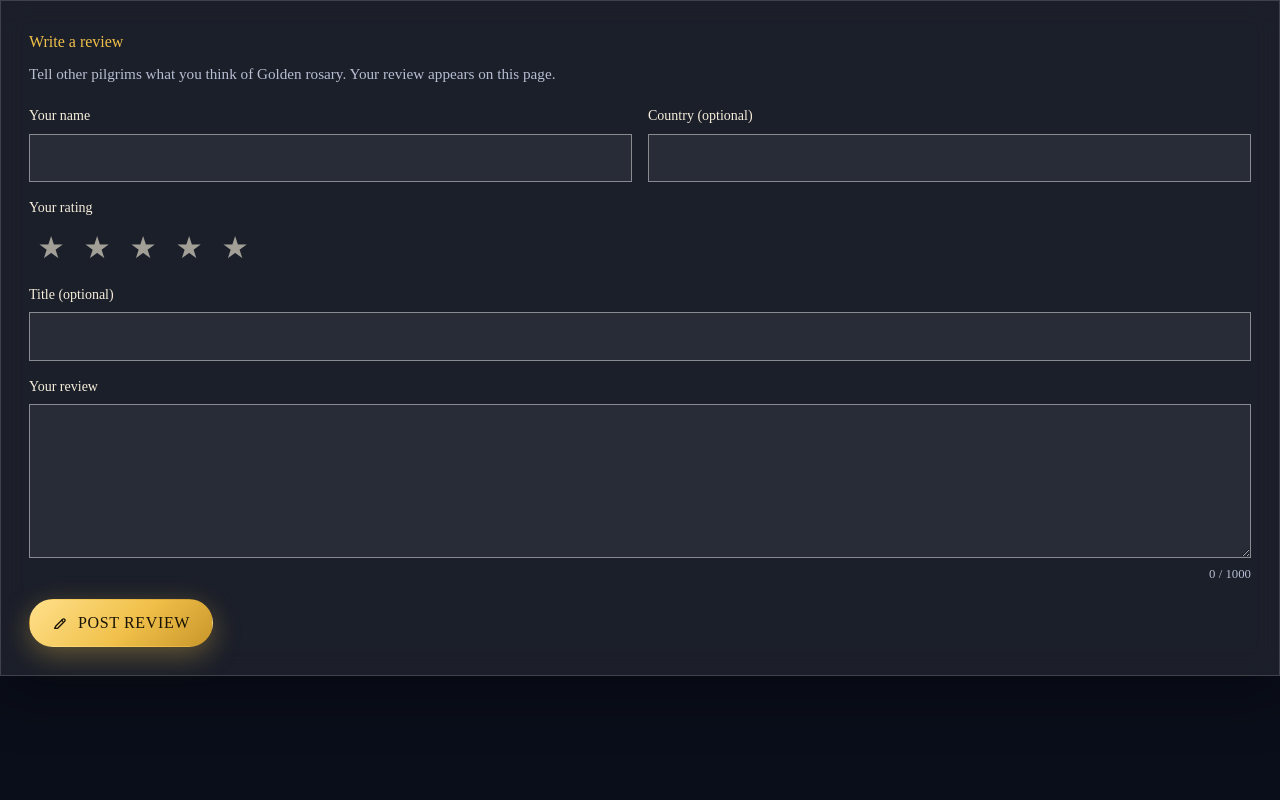
it: ProductReviewForm › explains an answer of 422 and keeps what was written
The image size is (1280, 800).
In the field labelled "Your name": (330, 158) [29,134,632,182], type " Maria "
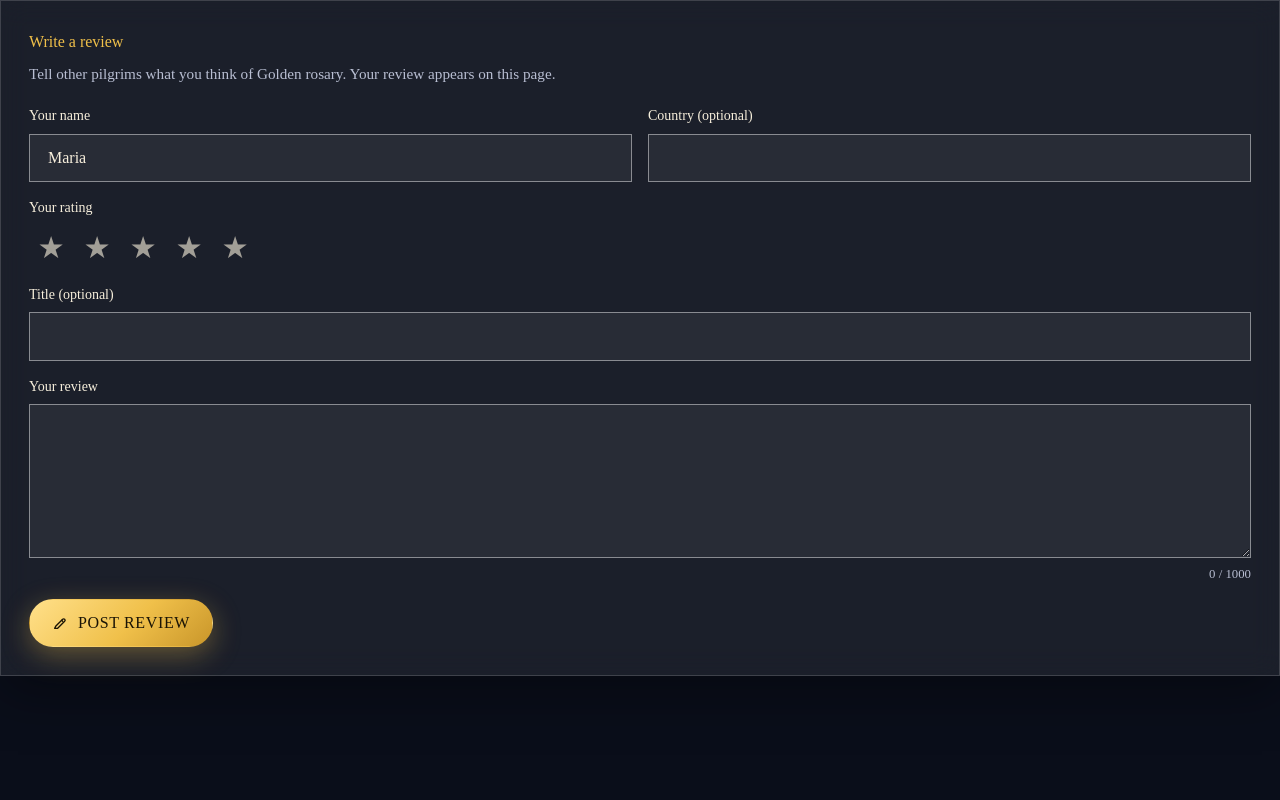
Click the radio button named "4 stars": click(189, 247) [167,225,211,269]
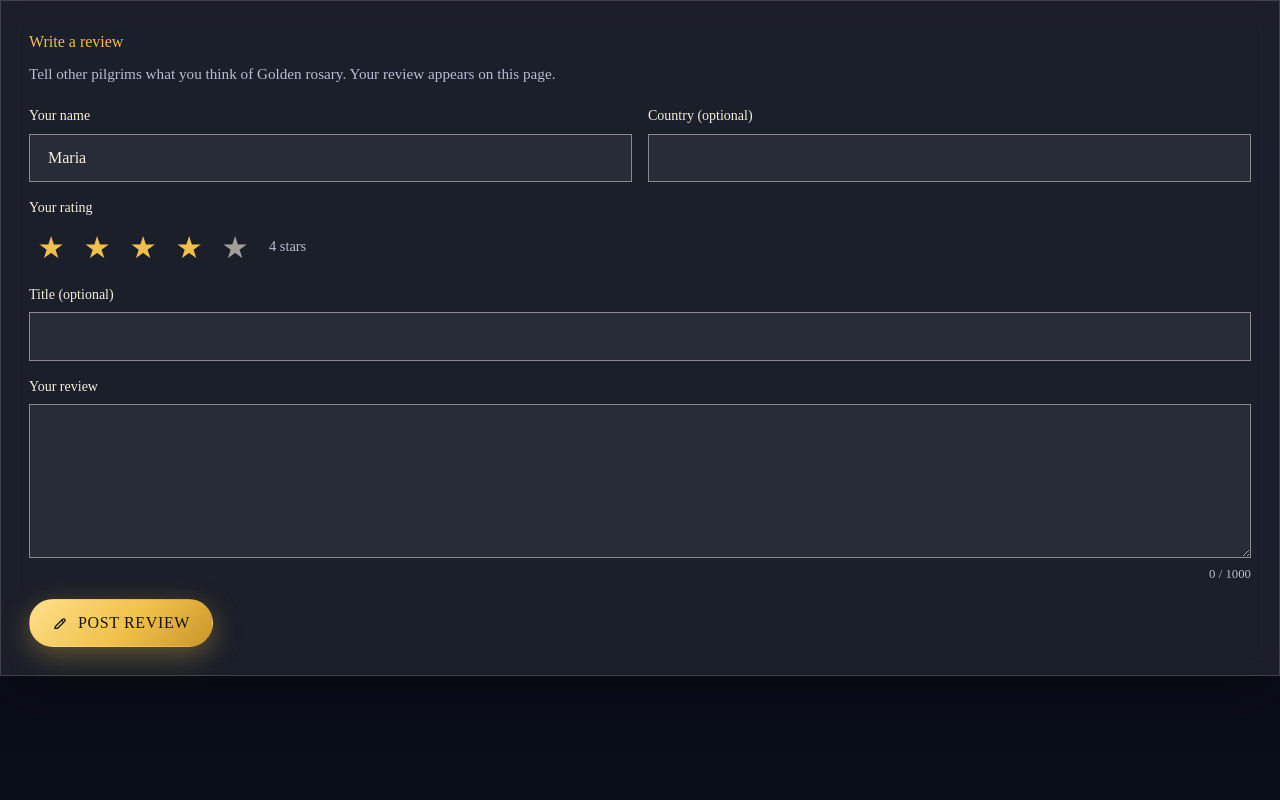
In the text box labelled "Your review": (640, 481) [29,404,1251,558], type "Beautiful rosary"
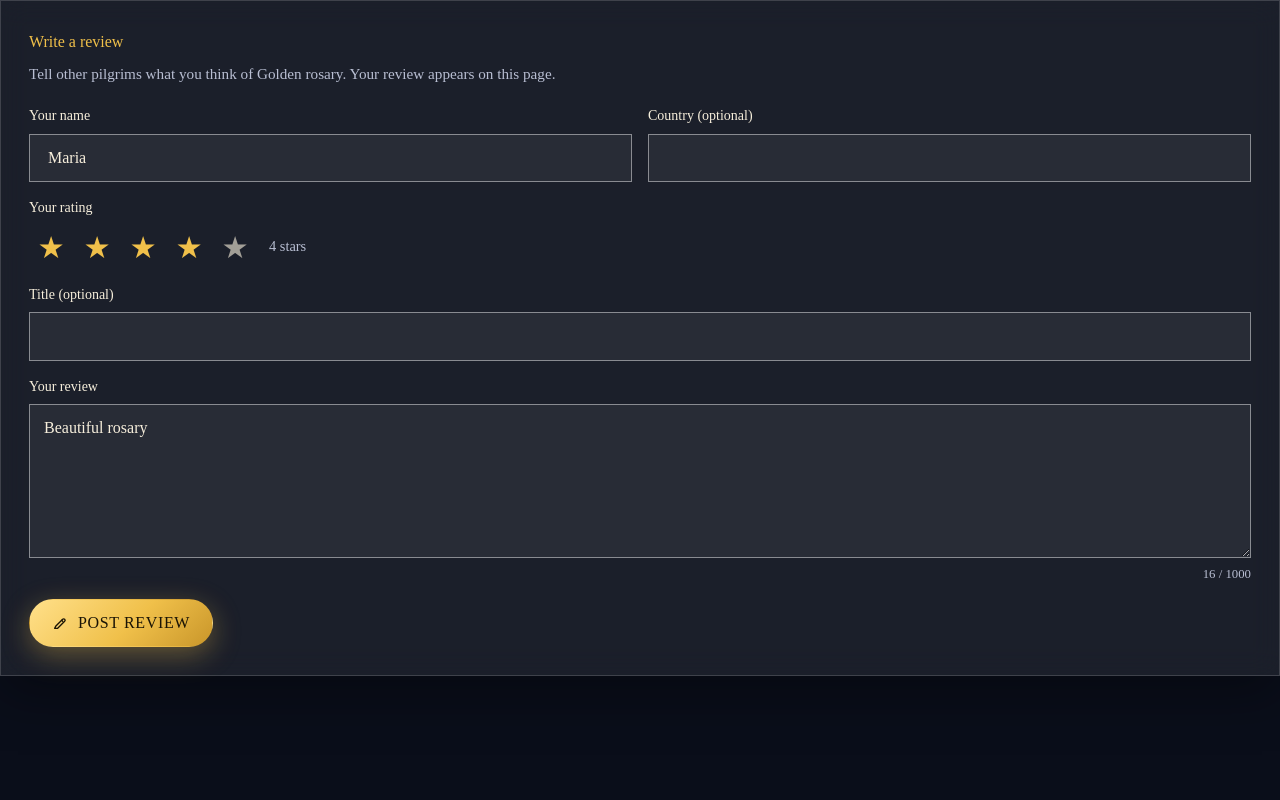
Click the button "Post review": click(121, 623) [29,599,213,647]
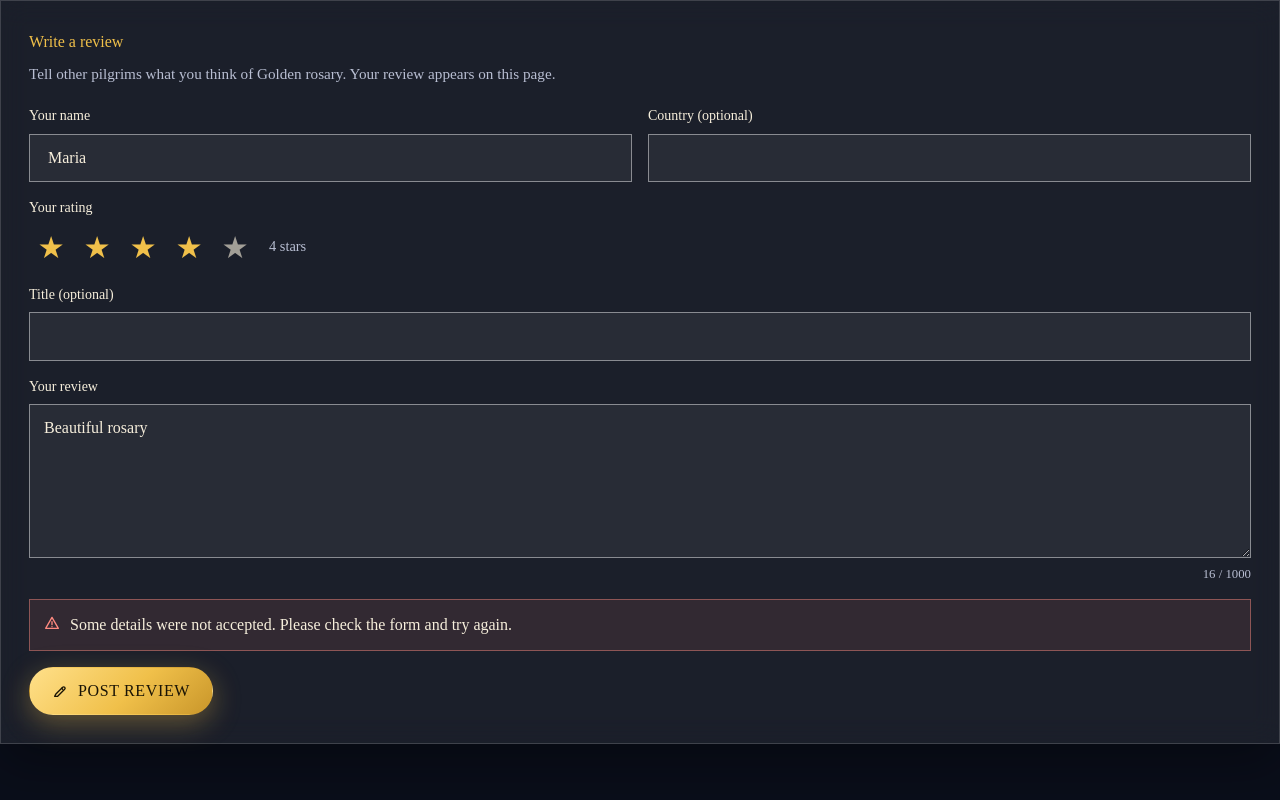
Expected: the message reads "Some details were not accepted. Please check the form and try again.", [70,616,512,633]
